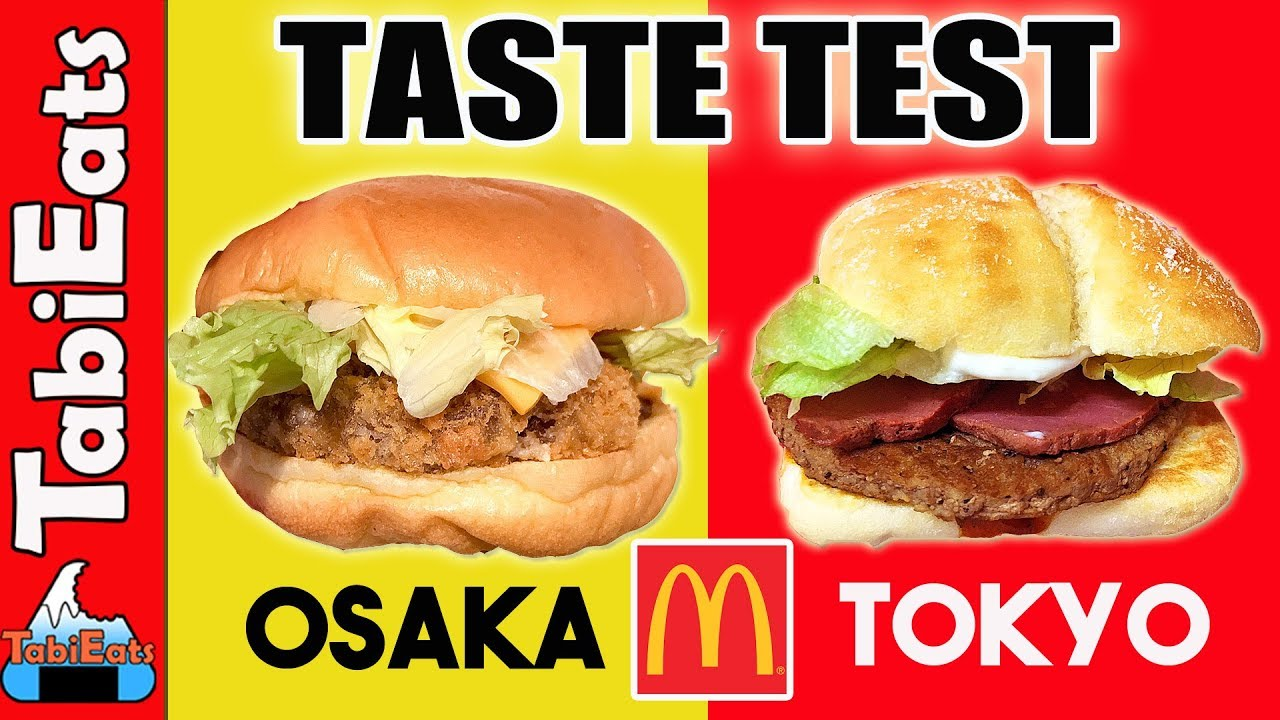mcdonalds: (647, 562, 778, 678)
